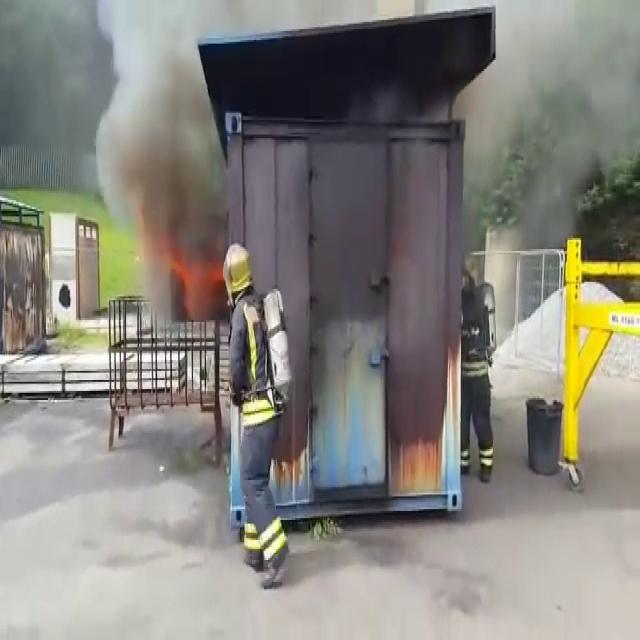Smoke: (110, 2, 215, 244), (478, 0, 615, 79)
